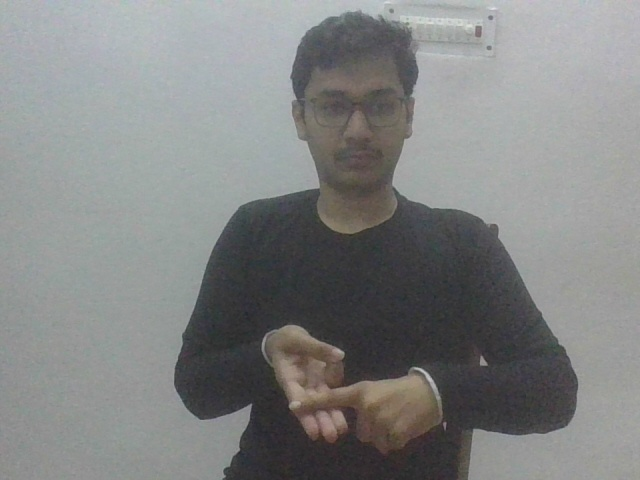E: (261, 322, 445, 457)
